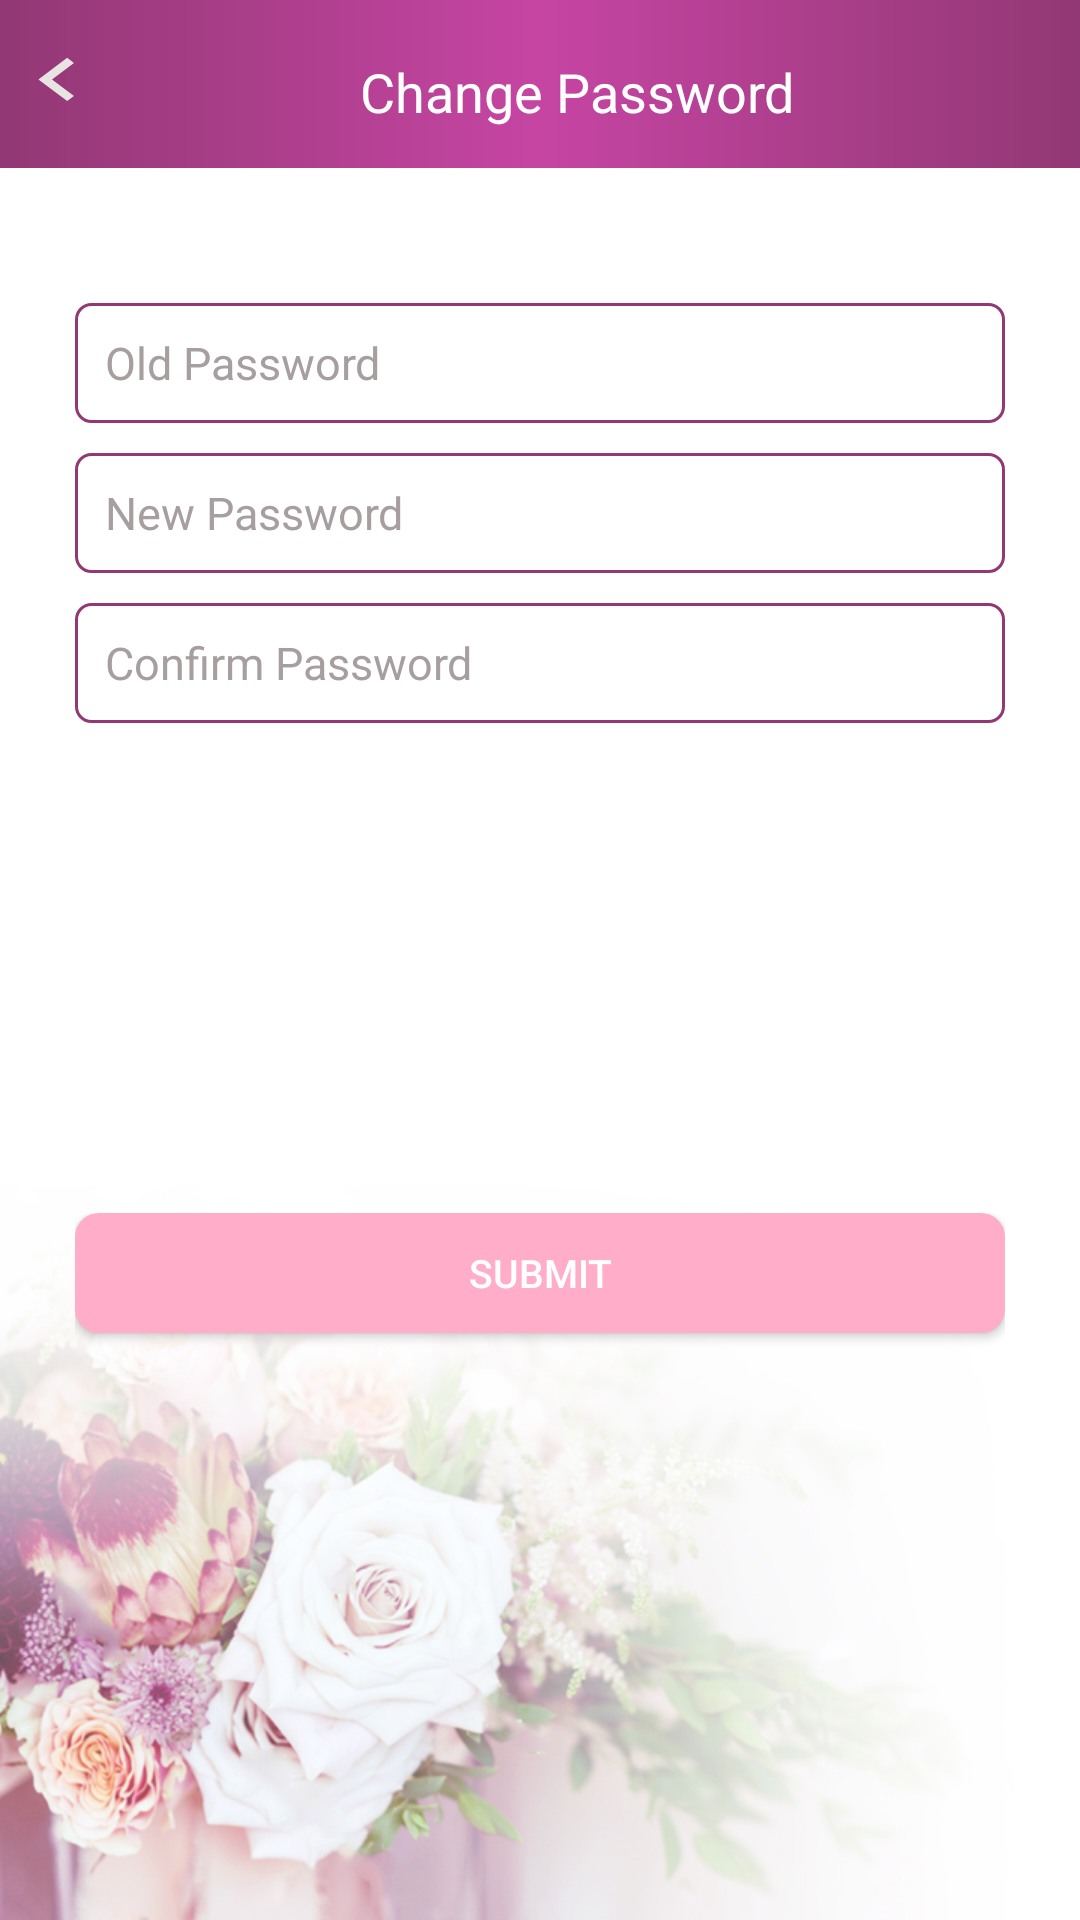

Point at icon controls on the screen. Image size 1080x1920, points as point (x, y).
arrow left: point (56, 79)
